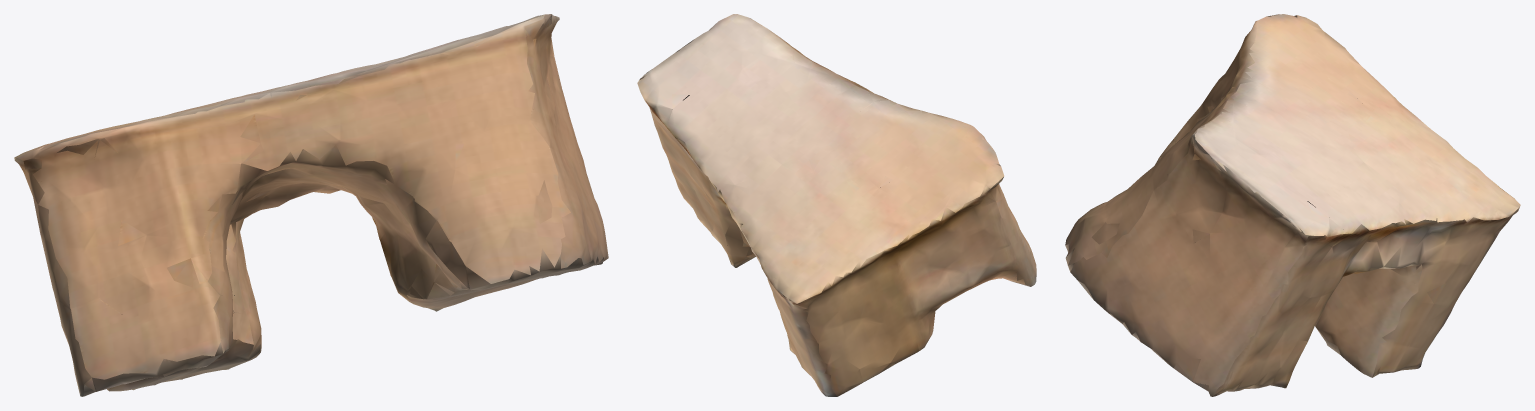
The picture shows the model from 3 angles, left to right: view 1: azimuth 30°, elevation 25°; view 2: azimuth 150°, elevation 25°; view 3: azimuth 270°, elevation 25°; orthographic projection. The views are drawn at different scales.
Visible parts, largest first — view 1: world; view 2: world; view 3: world.
Part boxes in pixels (left/top/right/bottom): world: left=14, top=14, right=608, bottom=396; world: left=637, top=14, right=1036, bottom=396; world: left=1065, top=14, right=1520, bottom=396.
Size of the model in its own units: 0.4948 by 0.3504 by 0.4303.
Materials: 1 (1 with a texture image).
